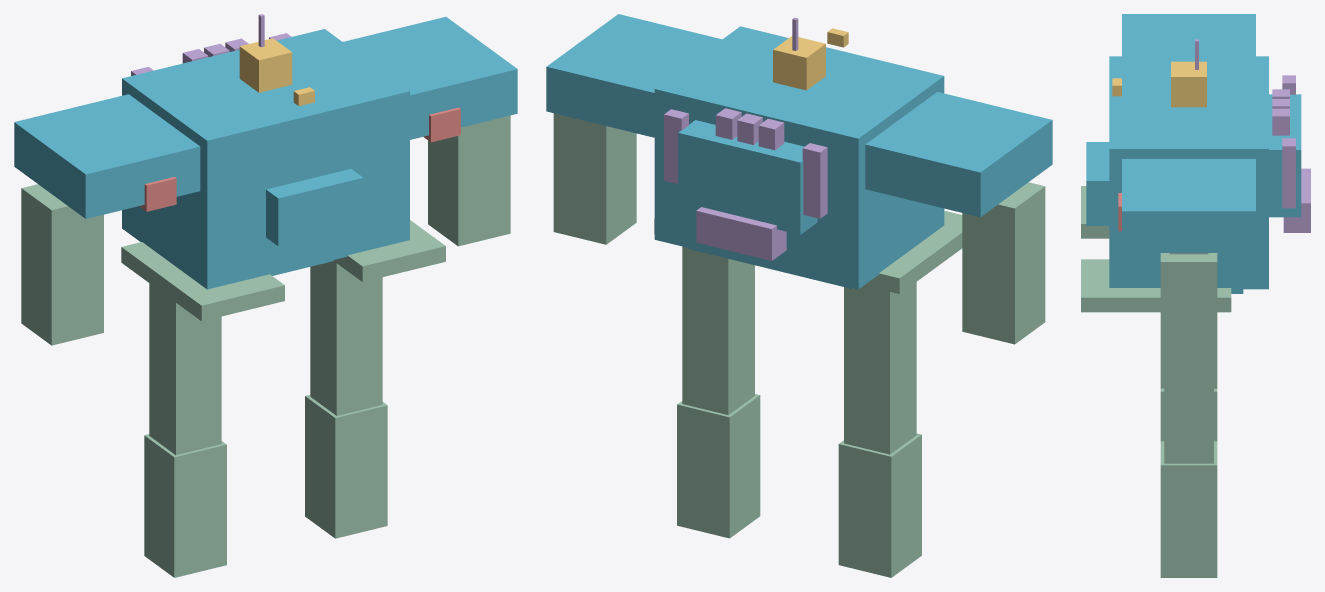
The model's file is mechfall_maxtac_ram.glb.
The picture shows the model from 3 angles, left to right: view 1: azimuth 30°, elevation 25°; view 2: azimuth 150°, elevation 25°; view 3: azimuth 270°, elevation 25°; orthographic projection. The views are drawn at different scales.
Visible parts, largest first — view 1: TORSO HULL, SHOULDER L, SHOULDER R, FOREARM L, LOWER LEG L, UPPER LEG L, UPPER LEG R, LOWER LEG R, FOREARM R, REACTOR CORE, FOOT L, FOOT R (+3 smaller); view 2: TORSO HULL, SHOULDER L, SHOULDER R, LOWER LEG L, FOREARM L, LOWER LEG R, UPPER LEG L, UPPER LEG R, EW BACKPACK, FOREARM R, FOOT L, COCKPIT CANOPY (+10 smaller); view 3: TORSO HULL, SHOULDER R, FOREARM R, UPPER LEG R, SHOULDER L, LOWER LEG R, FOOT R, EW BACKPACK, REACTOR CORE, COCKPIT CANOPY, RADIATOR R, THRUSTER 4 (+3 smaller).
Part boxes in pixels (box(x1,y1,x2,y2)): TORSO HULL: box(122, 29, 409, 289); SHOULDER L: box(14, 94, 200, 218); SHOULDER R: box(343, 17, 517, 139); FOREARM L: box(21, 184, 103, 345); LOWER LEG L: box(149, 283, 221, 454); UPPER LEG L: box(144, 434, 226, 577); UPPER LEG R: box(305, 395, 387, 538); LOWER LEG R: box(310, 261, 382, 415); FOREARM R: box(428, 115, 510, 246); REACTOR CORE: box(266, 169, 363, 246); FOOT L: box(121, 242, 284, 321); FOOT R: box(333, 220, 445, 281); TORSO HULL: box(654, 26, 944, 289); SHOULDER L: box(865, 92, 1052, 217); SHOULDER R: box(546, 14, 721, 137); LOWER LEG L: box(844, 282, 916, 454); FOREARM L: box(962, 182, 1045, 344); LOWER LEG R: box(682, 246, 754, 415); UPPER LEG L: box(838, 433, 921, 577); UPPER LEG R: box(677, 394, 760, 538); EW BACKPACK: box(678, 120, 817, 234); FOREARM R: box(553, 113, 636, 244); FOOT L: box(864, 210, 962, 293); COCKPIT CANOPY: box(773, 36, 825, 90); TORSO HULL: box(1109, 56, 1268, 289); SHOULDER R: box(1122, 159, 1255, 252); FOREARM R: box(1160, 253, 1217, 388); UPPER LEG R: box(1160, 441, 1217, 577); SHOULDER L: box(1122, 14, 1255, 56); LOWER LEG R: box(1164, 388, 1213, 463); FOOT R: box(1081, 259, 1231, 312); EW BACKPACK: box(1269, 94, 1301, 217); REACTOR CORE: box(1086, 142, 1109, 225); COCKPIT CANOPY: box(1171, 61, 1206, 107); RADIATOR R: box(1282, 138, 1295, 208); THRUSTER 4: box(1283, 195, 1310, 232).
Size of the model in its own units: 7.33 by 7.97 by 3.4.
